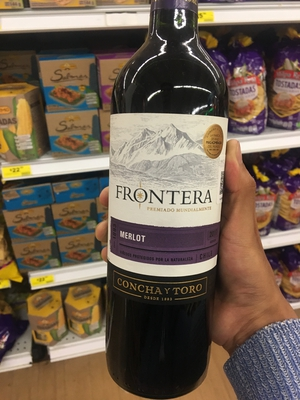frontera merlot: (96, 12, 225, 400)
